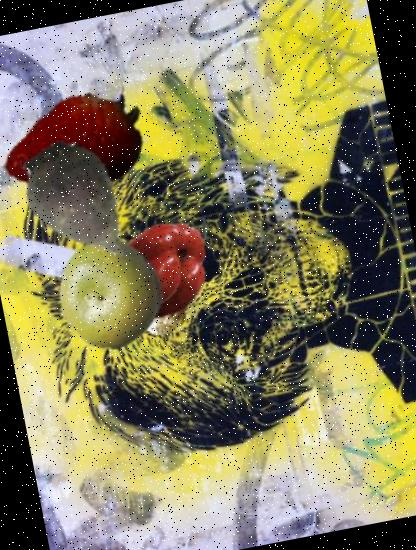Beetroot: (0, 122, 164, 290)
Cauliflower: (130, 280, 191, 340)
Pepper: (97, 210, 217, 330)
Pomelo: (45, 228, 176, 358)
Strawberry: (0, 59, 155, 215)
